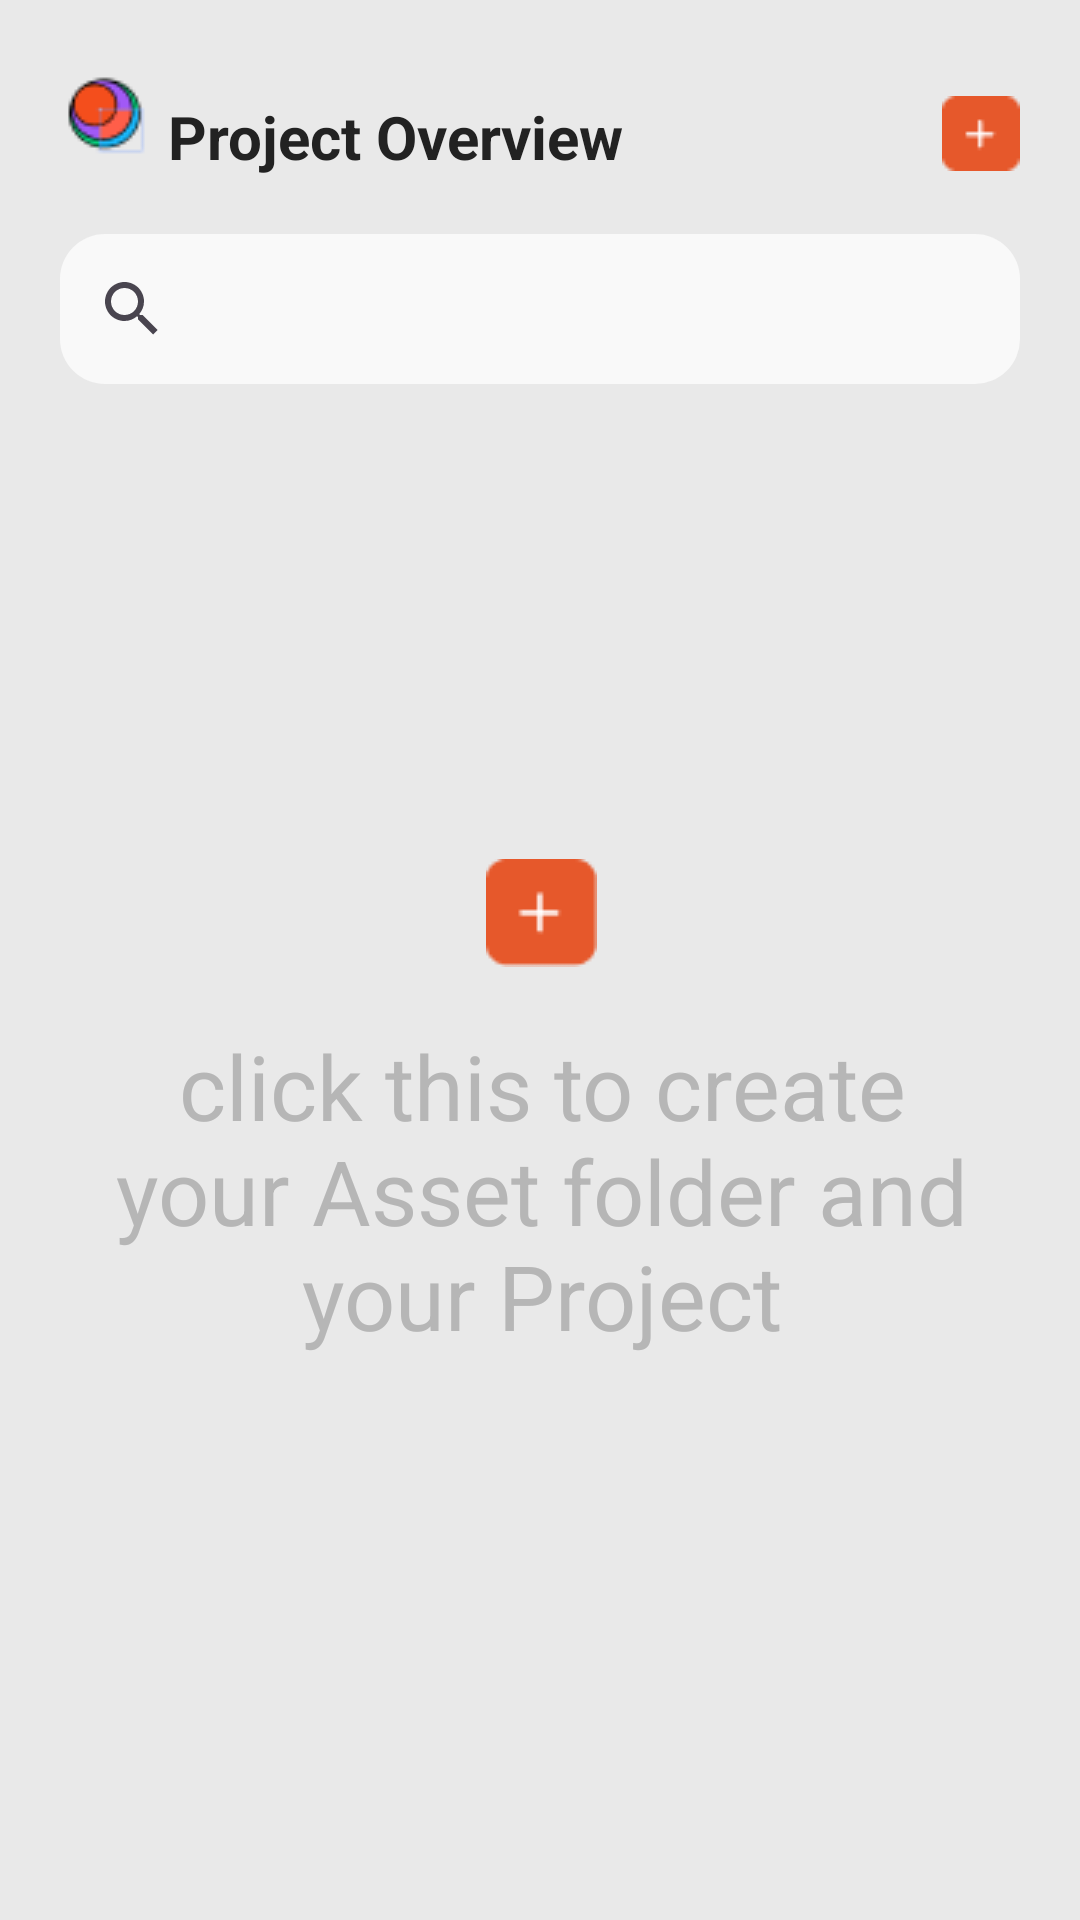

Named icons in this screenshot (1080px×1920px) and their bounding boxes, (x1, y1, x2, y2):
add folderview: (942, 96, 1020, 171)
bigger add: (486, 859, 597, 967)
